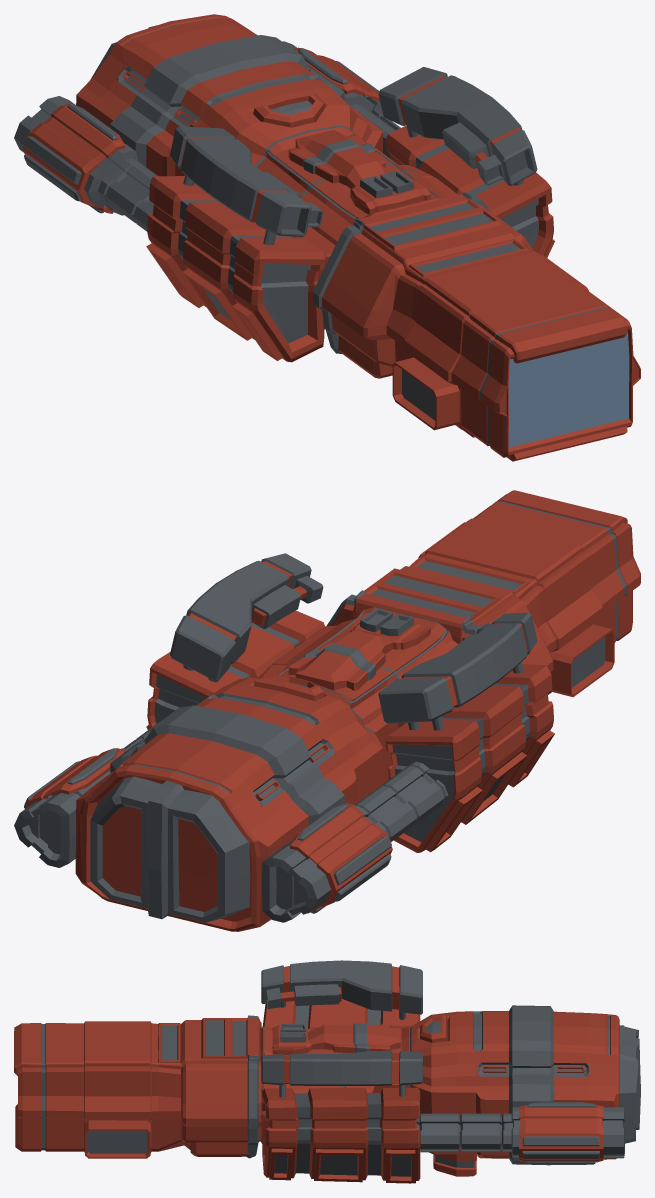
The model's file is Fighter_10_Red.fbx.
3 views of the same model, one above another, from view 1: azimuth 30°, elevation 25°; view 2: azimuth 150°, elevation 25°; view 3: azimuth 270°, elevation 25° (orthographic). The views are drawn at different scales.
Parts seen in each view (by area): view 1: Fighter_10_Red; view 2: Fighter_10_Red; view 3: Fighter_10_Red.
Part boxes in pixels (x1,y1,x2,y2): Fighter_10_Red: (14, 14, 640, 461); Fighter_10_Red: (14, 490, 640, 931); Fighter_10_Red: (14, 960, 640, 1183).
Size of the model in its own units: 1585 by 875 by 3605.
3 materials, 3 textured.
